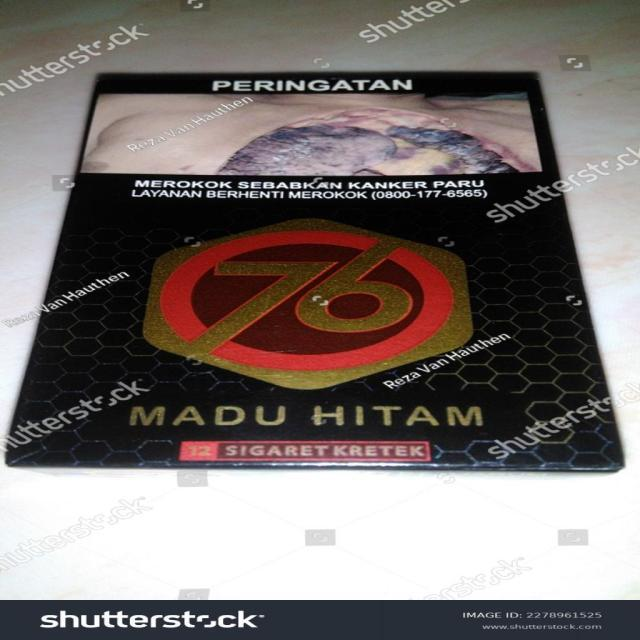smoking: (5, 69, 626, 472)
